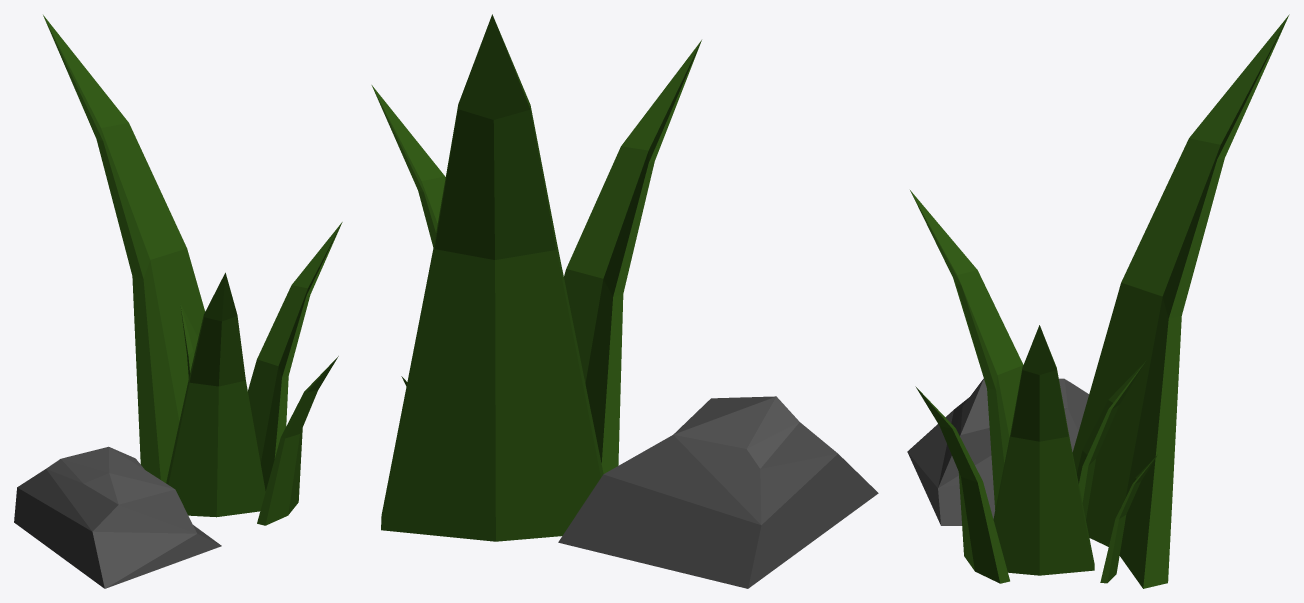
File: rock_2.obj
3 renders of one model, left to right at view 1: azimuth 30°, elevation 25°; view 2: azimuth 150°, elevation 25°; view 3: azimuth 270°, elevation 25°, orthographic. The views are drawn at different scales.
Visible parts, largest first — view 1: rock_2; view 2: rock_2; view 3: rock_2.
Part boxes in pixels (x1,y1,x2,y2): rock_2: [14, 15, 342, 588]; rock_2: [371, 14, 878, 588]; rock_2: [907, 14, 1289, 588].
Bounding box in the file's own units: 0.6835 × 0.9383 × 0.6559.
